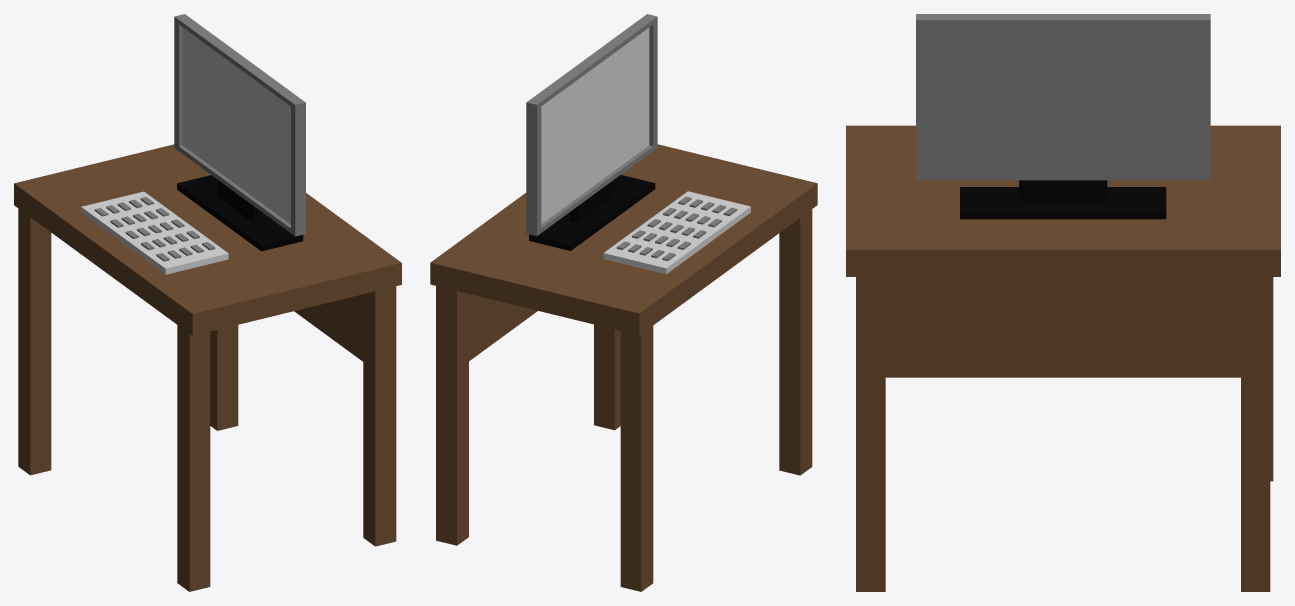
File: TableWithComp.fbx
The picture shows the model from 3 angles, left to right: view 1: azimuth 30°, elevation 25°; view 2: azimuth 150°, elevation 25°; view 3: azimuth 270°, elevation 25°; orthographic projection. The views are drawn at different scales.
Visible parts, largest first — view 1: Cube.004, Cube.003, Cube; view 2: Cube.004, Cube.003, Cube; view 3: Cube.004, Cube.003.
Part boxes in pixels (left/top/right/bottom): Cube.004: left=14, top=144, right=401, bottom=591; Cube.003: left=174, top=14, right=305, bottom=251; Cube: left=81, top=191, right=228, bottom=274; Cube.004: left=430, top=144, right=817, bottom=591; Cube.003: left=526, top=14, right=657, bottom=250; Cube: left=603, top=191, right=750, bottom=274; Cube.004: left=846, top=125, right=1280, bottom=591; Cube.003: left=916, top=14, right=1210, bottom=219.
Bounding box in the file's own units: 200 × 399 × 295.
